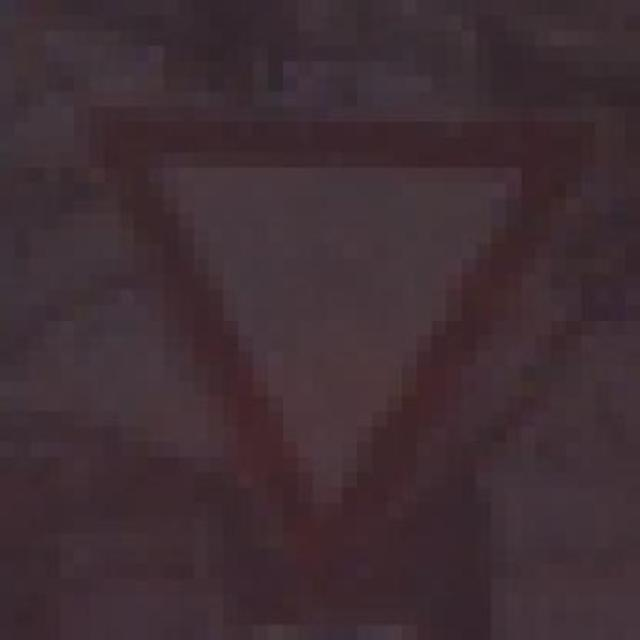Give Way: (59, 73, 626, 622)
